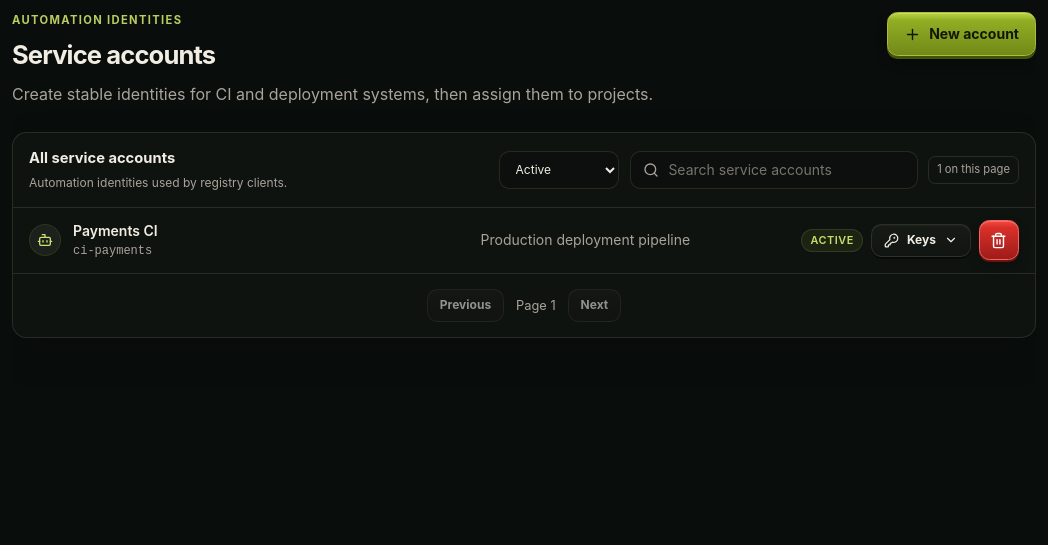
Test: ServiceAccountsPage › filters service accounts by name, username or description
Check: the button named "Disable service account Payments CI" is empty, box [979,220,1019,260]
Type "CI-PAYMENTS" into the search field named "Search service accounts" at (774, 170), box [630,151,918,189]
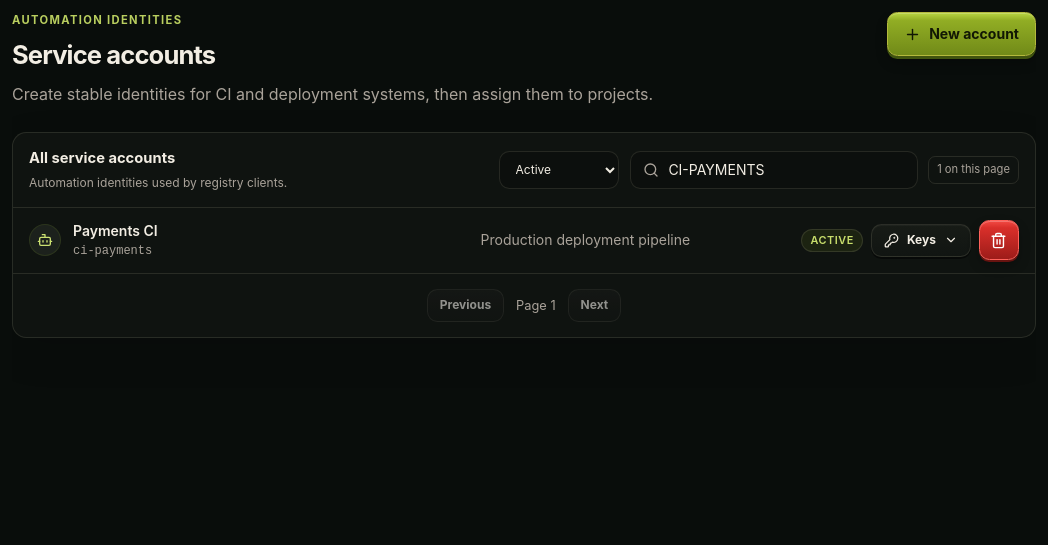
Check: the text "Payments CI" is shown, box [73,221,158,241]
Check: the text "Registry mirror" is not shown
Select "Disabled" in the dropdown named "Filter service accounts by status" at (559, 170), box [499,151,619,189]
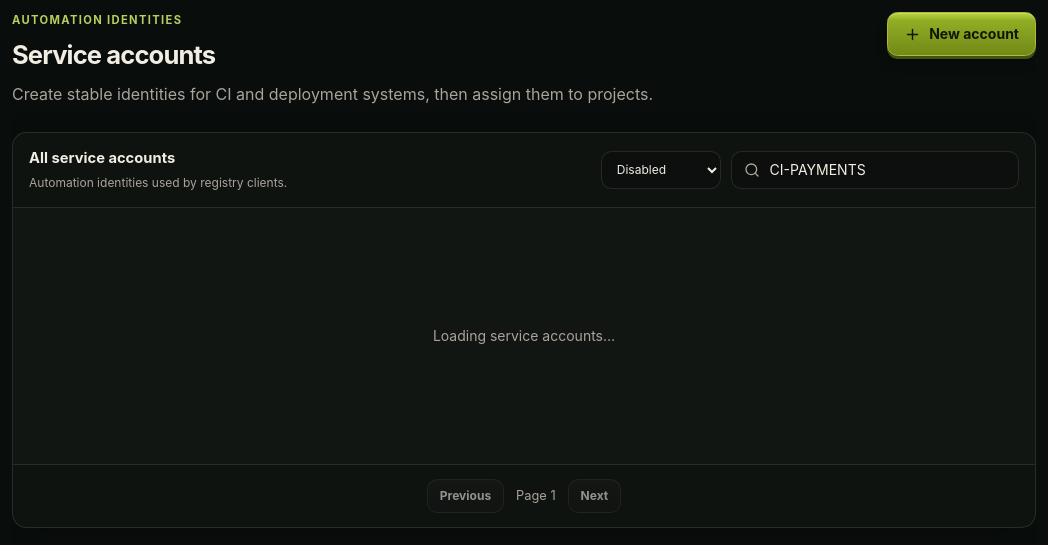
Replace the text in the search field named "Search service accounts" with "base images" at (875, 170), box [731,151,1019,189]
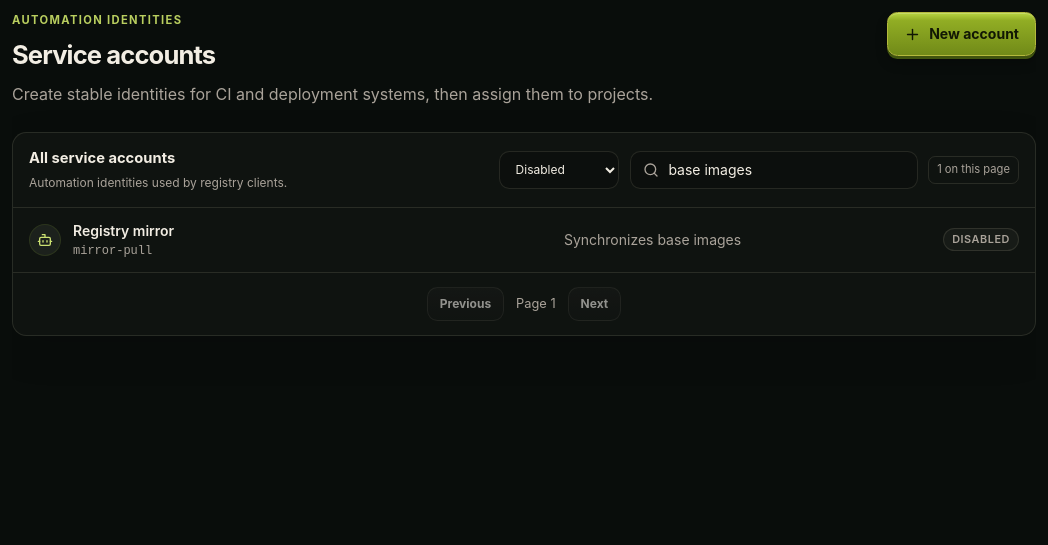
Check: the text "Payments CI" is not shown
Check: the text "Registry mirror" is shown, box [73,221,174,241]
Check: the text "Disabled" is shown, box [943,228,1019,251]
